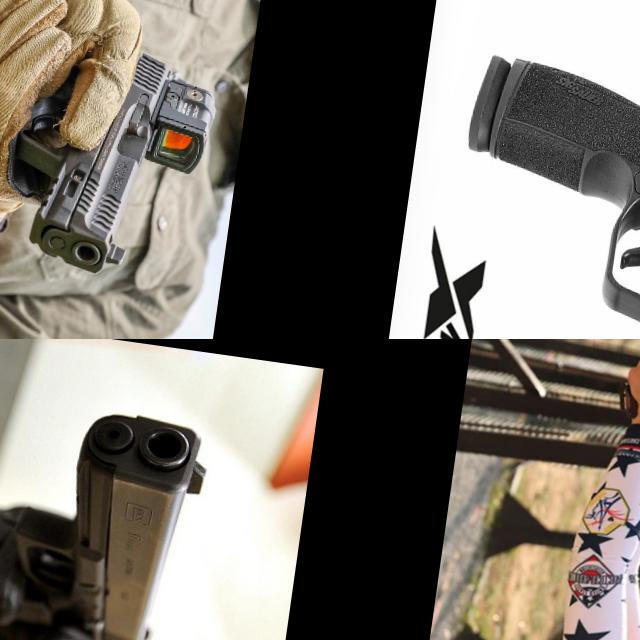handgun: (422, 43, 640, 339), (0, 33, 223, 288), (0, 390, 218, 640)
